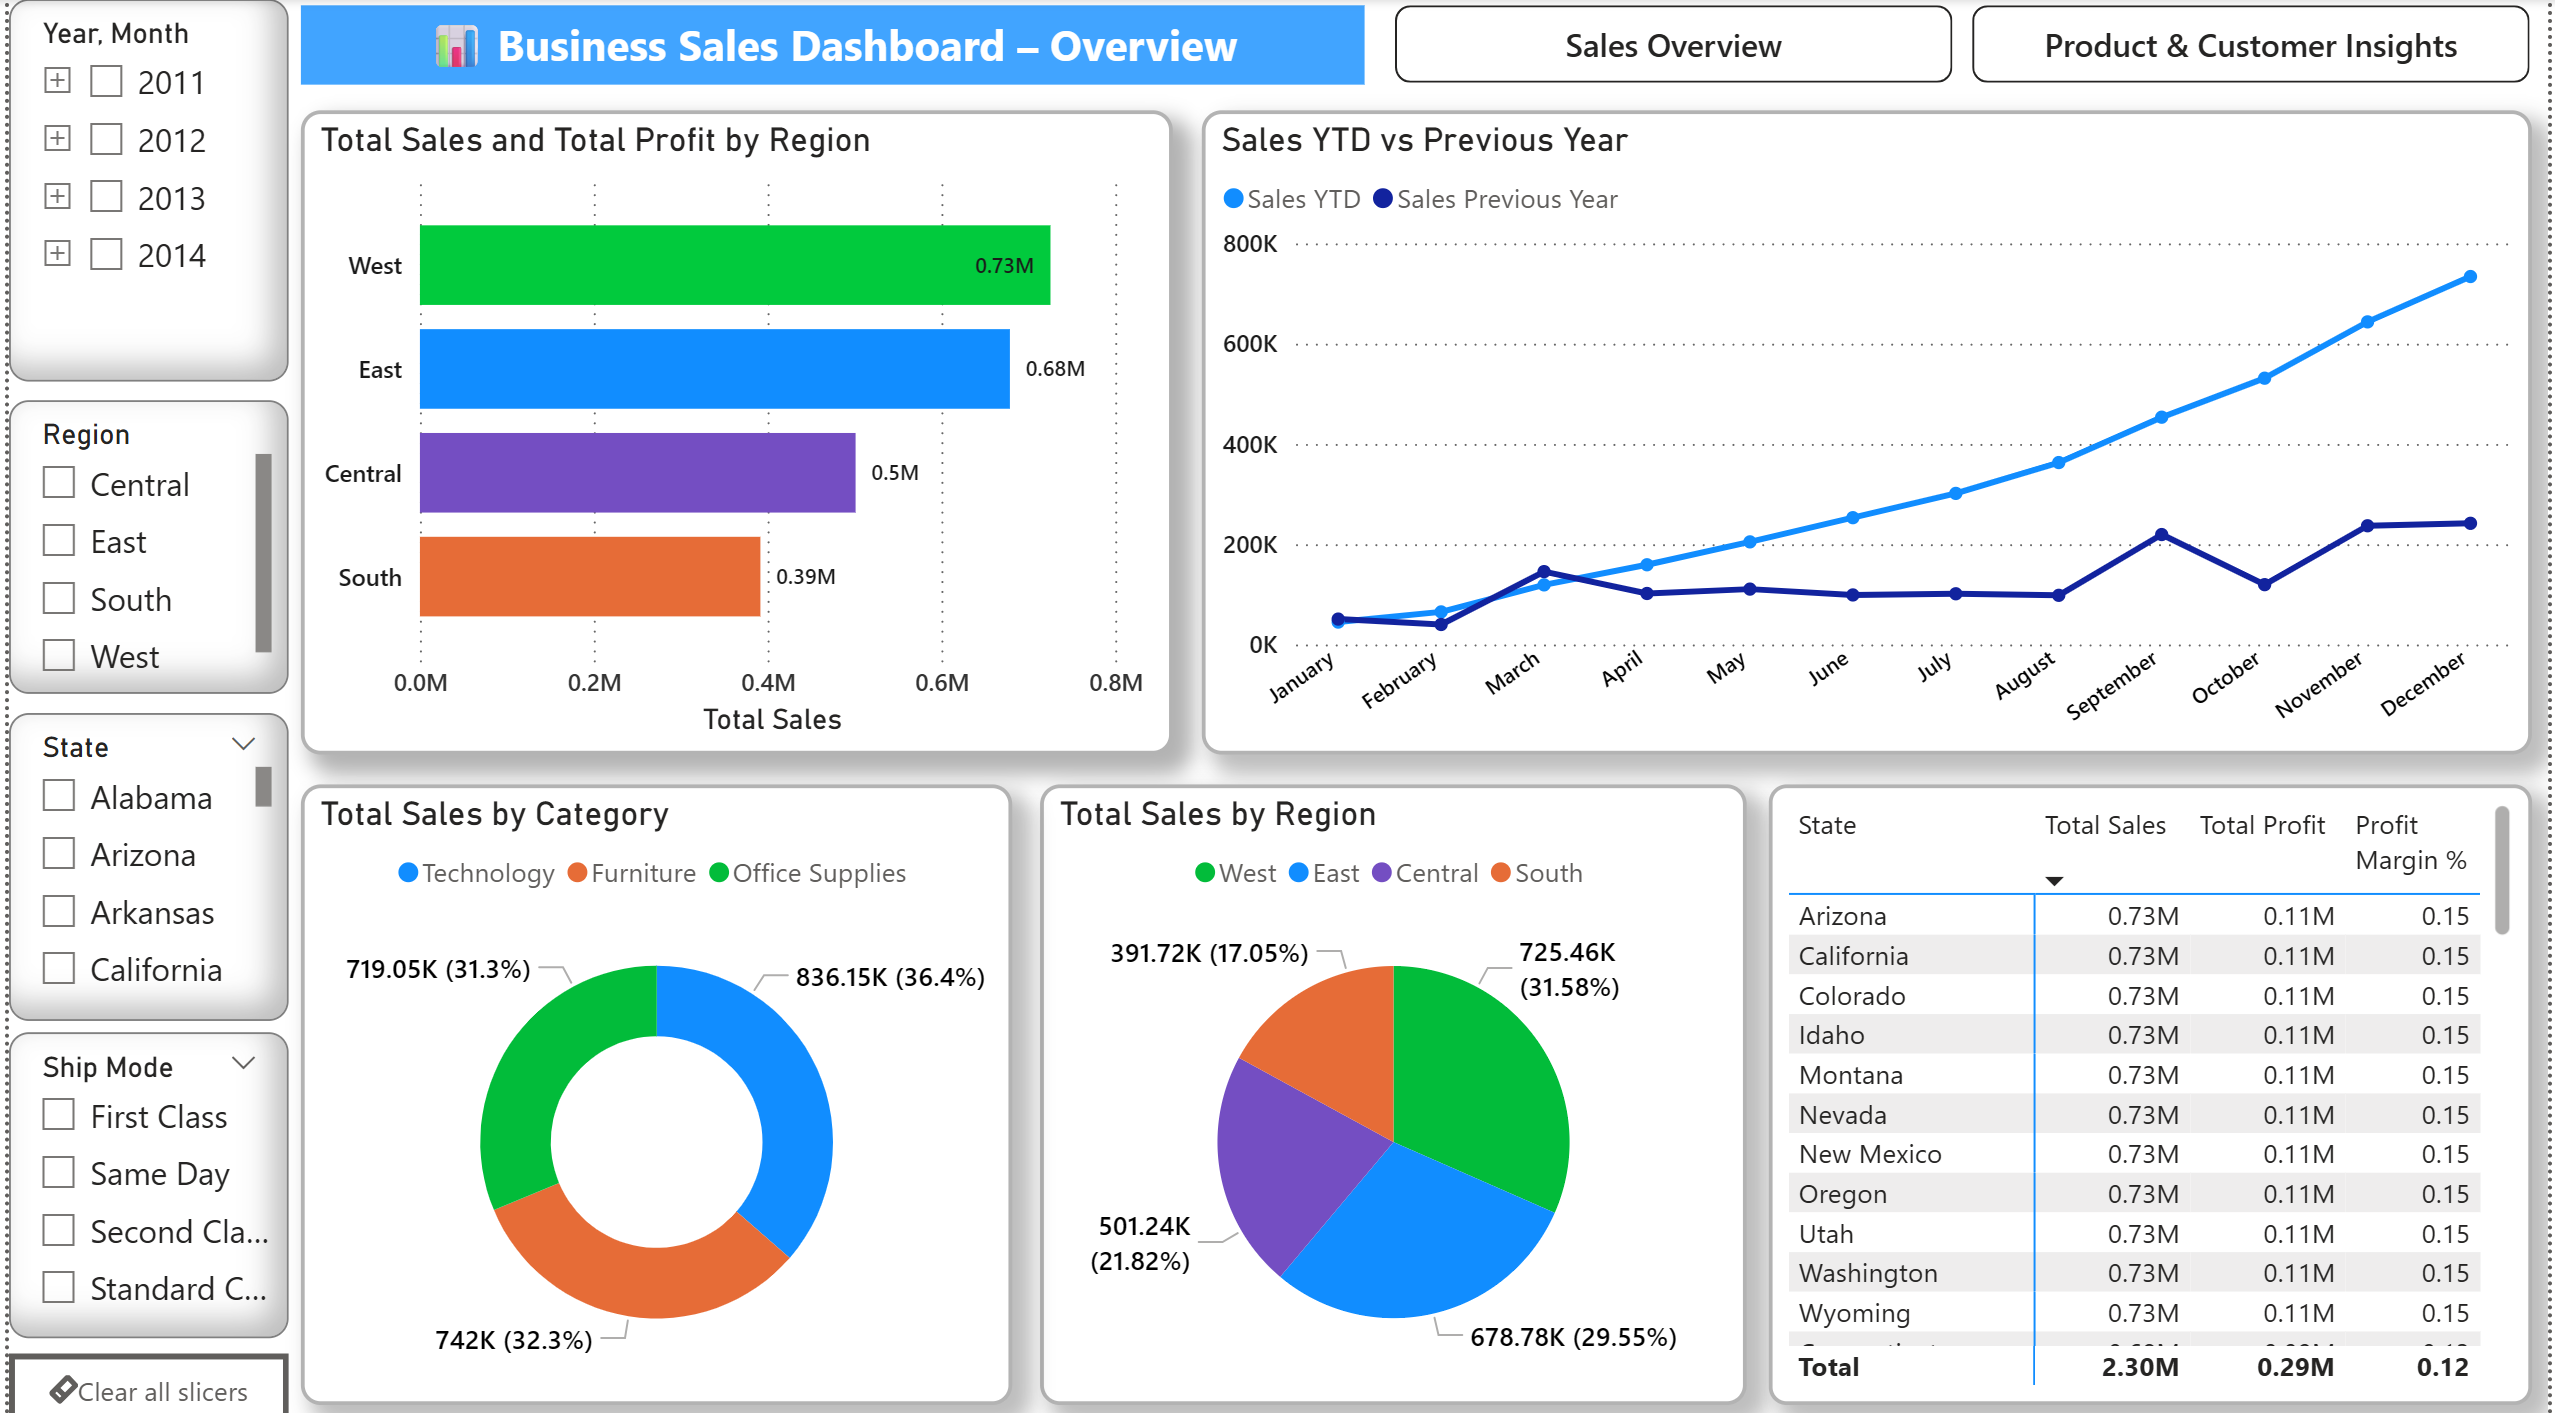

What the dashboard file says about the page in this screenshot:
{"tool":"powerbi","page":{"name":"Regional & Time Intelligence","canvas":[1280,720],"ordinal":2},"visuals":[{"type":"barChart","fields":{"Y":["FactOrders.Total Sales"],"Category":["FactOrders.Region"]},"box":[147.1,56.1,439.3,325],"z":0},{"type":"lineChart","title":"Sales YTD vs Previous Year","fields":{"Y":["FactOrders.Sales YTD","FactOrders.Sales Previous Year"],"Category":["DimDate.Date.Variation.Date Hierarchy.Month"]},"box":[600.9,56.4,670.3,324.6],"z":1000},{"type":"pieChart","fields":{"Category":["FactOrders.Region"],"Y":["FactOrders.Total Sales"]},"box":[519.8,396.3,356.3,312.8],"z":2000},{"type":"donutChart","fields":{"Category":["FactOrders.Category"],"Y":["FactOrders.Total Sales"]},"box":[147,396.3,358.7,312.8],"z":3000},{"type":"pivotTable","fields":{"Rows":["DimRegion.Region","DimRegion.Country","DimRegion.State","DimRegion.City"],"Values":["FactOrders.Total Sales","FactOrders.Total Profit","FactOrders.Profit Margin %"]},"box":[886.7,396.3,384.5,312.8],"z":4000},{"type":"slicer","fields":{"Values":["DimDate.Date.Variation.Date Hierarchy.Year","DimDate.Date.Variation.Date Hierarchy.Month"]},"box":[0,0,141.1,192.9],"z":5000},{"type":"slicer","fields":{"Values":["FactOrders.Region"]},"box":[0,202.3,141.1,148.2],"z":6000},{"type":"slicer","fields":{"Values":["FactOrders.State"]},"box":[0,359.8,141.1,155.2],"z":7000},{"type":"slicer","fields":{"Values":["FactOrders.Ship Mode"]},"box":[0,520.9,141.1,154],"z":8000},{"type":"actionButton","box":[0,683.2,141.1,36.5],"z":9000},{"type":"textbox","box":[147,3.5,536.2,40],"z":10000},{"type":"pageNavigator","box":[698.5,3.5,572.7,40],"z":11000}]}

Visuals, with their boxes in screenshot pixels (x1, y1, x2, y2), scaled from the page's 1280x720 canvas onto the 2555x1413 screenshot:
barChart - FactOrders.Total Sales x FactOrders.Region: detection(294, 110, 1171, 748)
"Sales YTD vs Previous Year" lineChart: detection(1199, 111, 2537, 748)
pieChart - FactOrders.Region x FactOrders.Total Sales: detection(1038, 778, 1749, 1392)
donutChart - FactOrders.Category x FactOrders.Total Sales: detection(293, 778, 1009, 1392)
pivotTable - DimRegion.Region x DimRegion.Country: detection(1770, 778, 2537, 1392)
slicer - DimDate.Date.Variation.Date Hierarchy.Year x DimDate.Date.Variation.Date Hierarchy.Month: detection(0, 0, 282, 379)
slicer - FactOrders.Region: detection(0, 397, 282, 688)
slicer - FactOrders.State: detection(0, 706, 282, 1011)
slicer - FactOrders.Ship Mode: detection(0, 1022, 282, 1324)
actionButton: detection(0, 1341, 282, 1412)
textbox: detection(293, 7, 1364, 85)
pageNavigator: detection(1394, 7, 2537, 85)
